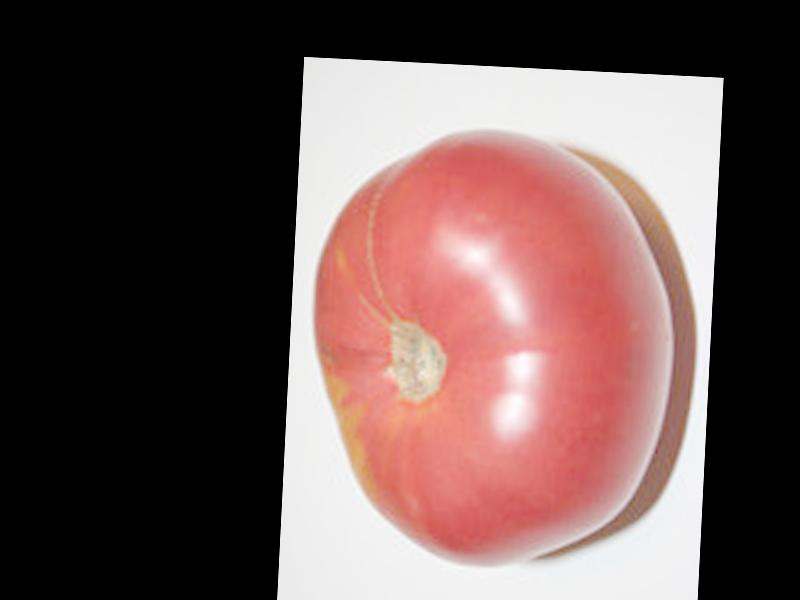Tomato: (296, 119, 673, 577)
